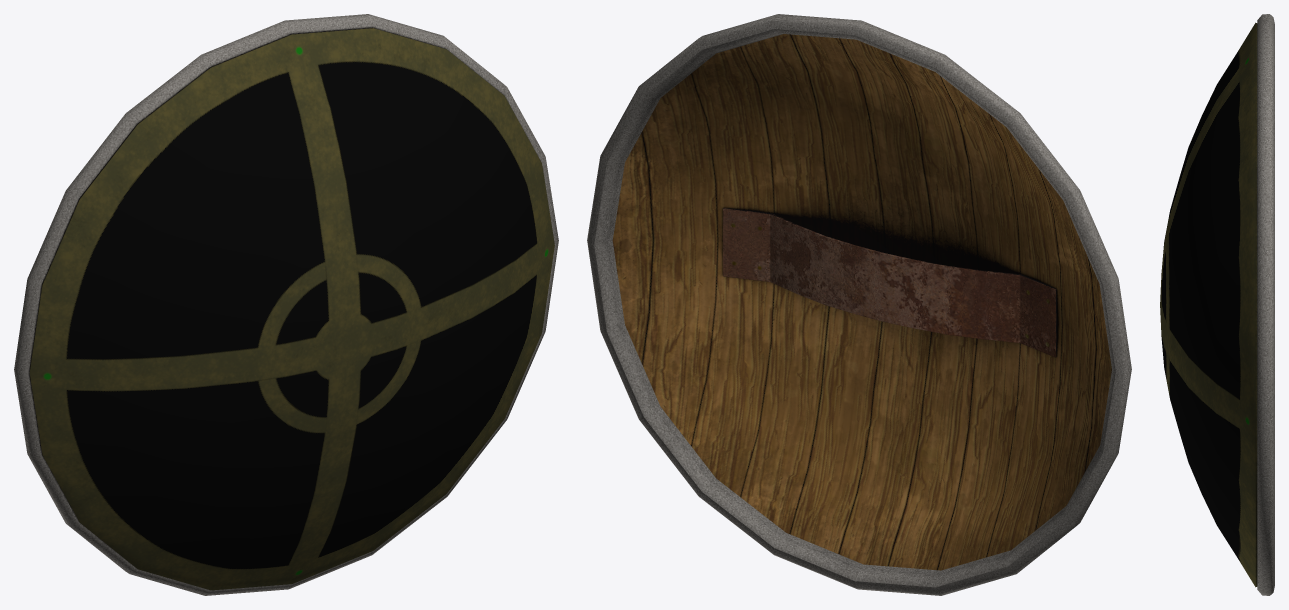
Rendered from shield.fbx.
3 renders of one model, left to right at view 1: azimuth 30°, elevation 25°; view 2: azimuth 150°, elevation 25°; view 3: azimuth 270°, elevation 25°, orthographic. The views are drawn at different scales.
Visible parts, largest first — view 1: pCube2; view 2: pCube2; view 3: pCube2.
Boxes of the visible parts, <box> form: pCube2: <box>14,14,558,595</box>; pCube2: <box>587,14,1131,595</box>; pCube2: <box>1160,14,1274,595</box>.
Bounding box in the file's own units: 71.67 × 71.67 × 14.05.
Materials: 1 (1 with a texture image).
